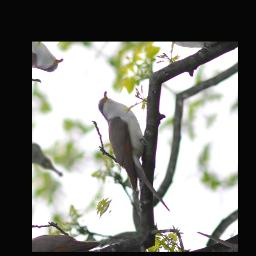Cuckoo: (69, 89, 205, 219)
